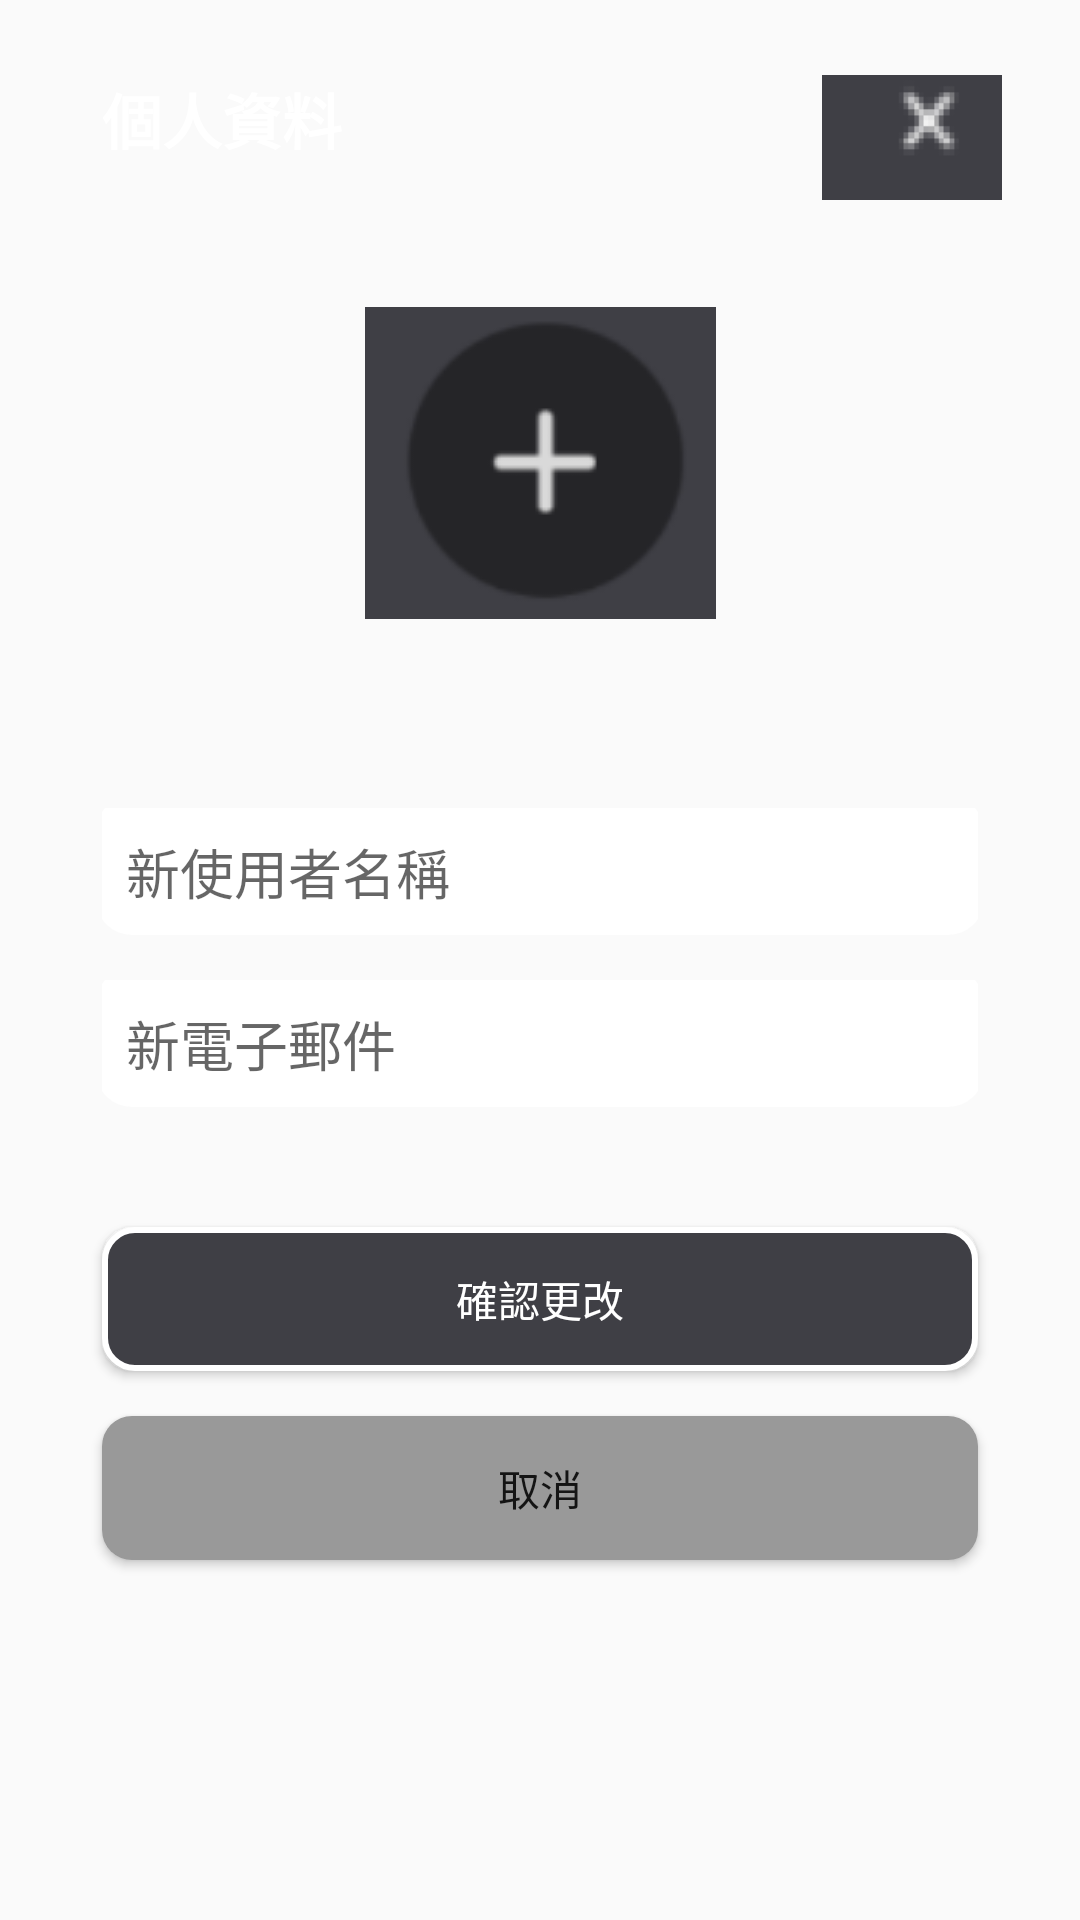

Icon bounding boxes for this 1080 x 1920 phone screenshot, format (x1, y1, x2, y2):
cancel: (822, 75, 1002, 200)
